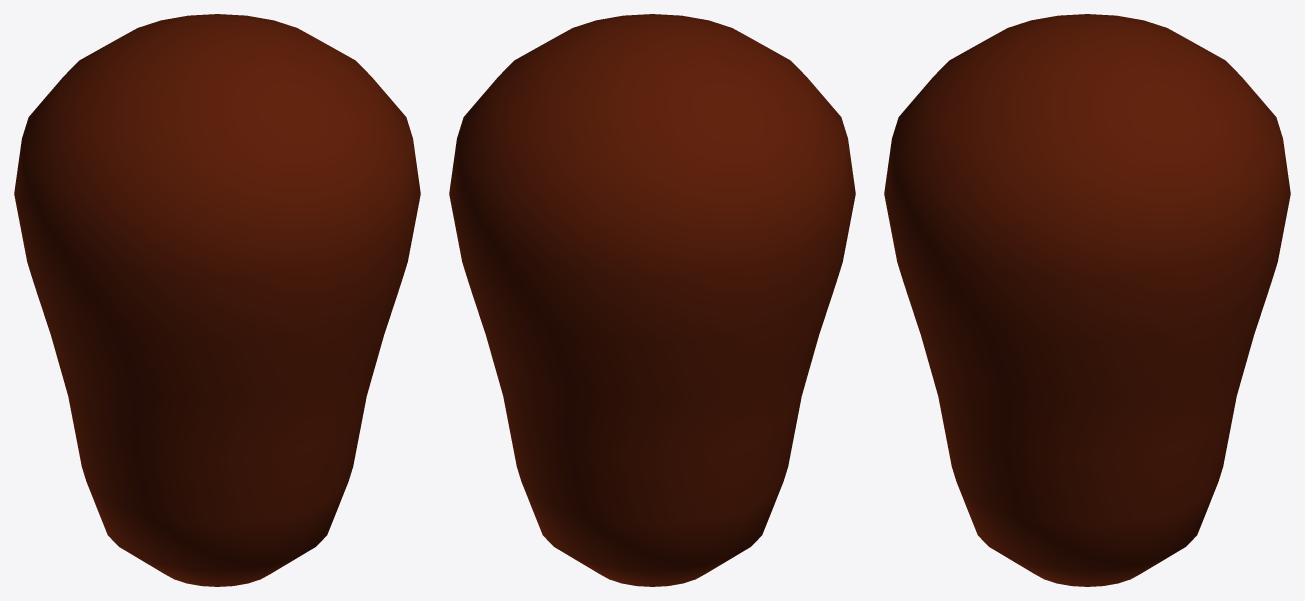
File: item-potato.obj
The picture shows the model from 3 angles, left to right: view 1: azimuth 30°, elevation 25°; view 2: azimuth 150°, elevation 25°; view 3: azimuth 270°, elevation 25°; orthographic projection.
Visible parts, largest first — view 1: body; view 2: body; view 3: body.
Part boxes in pixels (x1,y1,x2,y2): body: [14, 14, 420, 586]; body: [449, 14, 855, 586]; body: [884, 14, 1290, 586].
Bounding box in the file's own units: 1.8 × 2.64 × 1.8.
